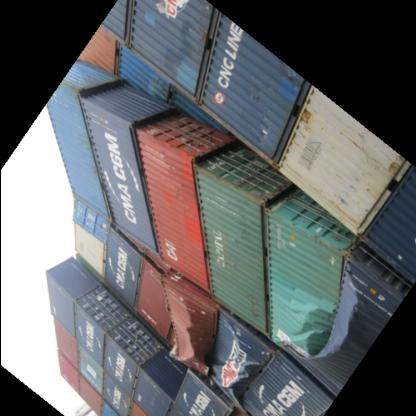Damage: (278, 246, 372, 396), (164, 288, 206, 374), (211, 320, 252, 404)
